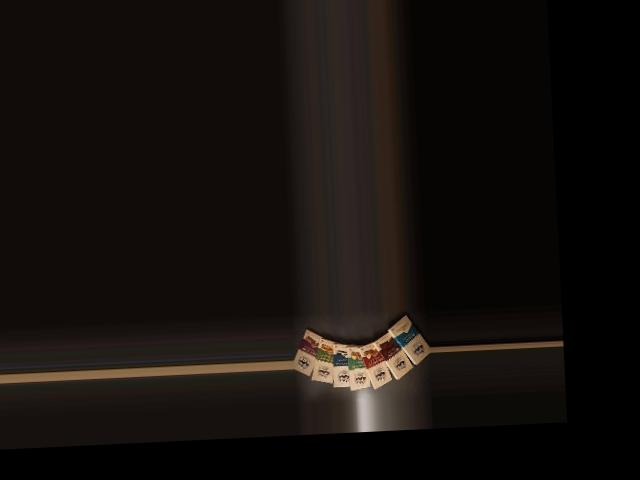chocolate: (387, 310, 430, 367)
